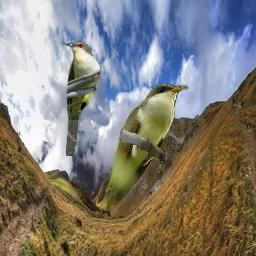Cuckoo: (101, 83, 189, 211), (63, 41, 102, 156)
